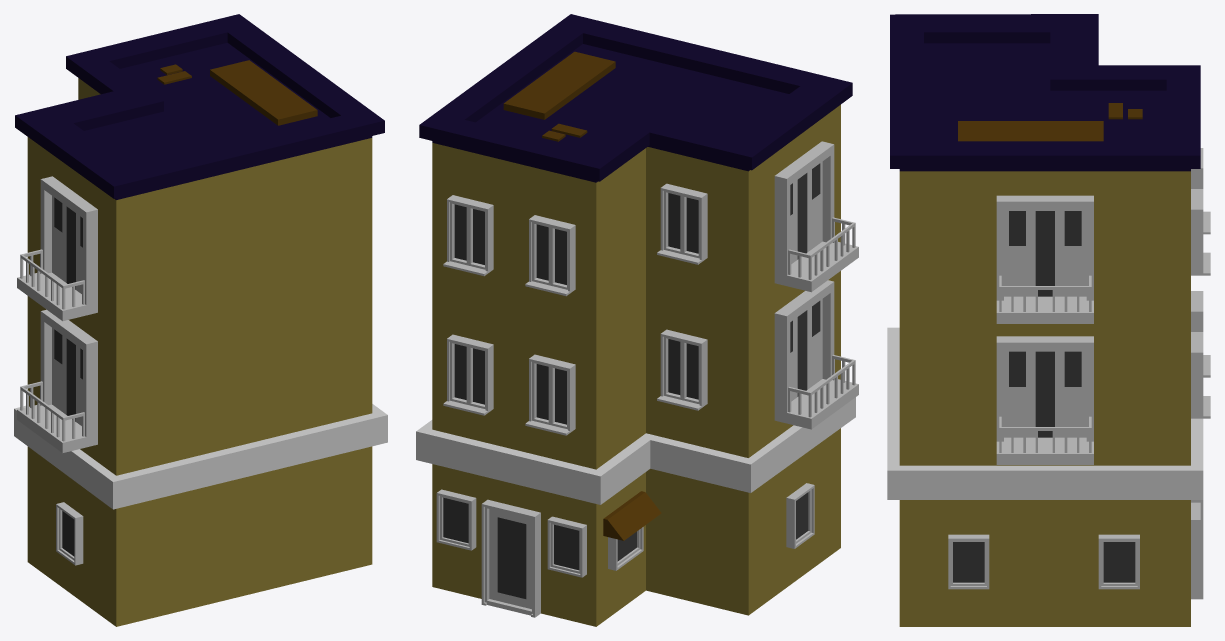
File: Building_4 (1).fbx
The picture shows the model from 3 angles, left to right: view 1: azimuth 30°, elevation 25°; view 2: azimuth 150°, elevation 25°; view 3: azimuth 270°, elevation 25°; orthographic projection. The views are drawn at different scales.
Parts seen in each view (by area): view 1: Building_4; view 2: Building_4; view 3: Building_4.
Part boxes in pixels (left/top/right/bottom): Building_4: left=14, top=14, right=387, bottom=626; Building_4: left=416, top=14, right=858, bottom=626; Building_4: left=887, top=14, right=1210, bottom=626.
Size of the model in its own units: 830 by 1080 by 665.
